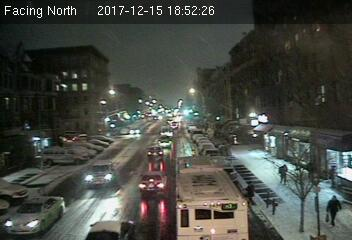bus: (175, 155, 253, 239)
car: (4, 193, 66, 235), (83, 221, 136, 240), (85, 160, 115, 186), (139, 171, 168, 195), (157, 135, 173, 149), (147, 145, 163, 157)
pedestrian: (324, 194, 343, 229), (278, 164, 288, 185)
